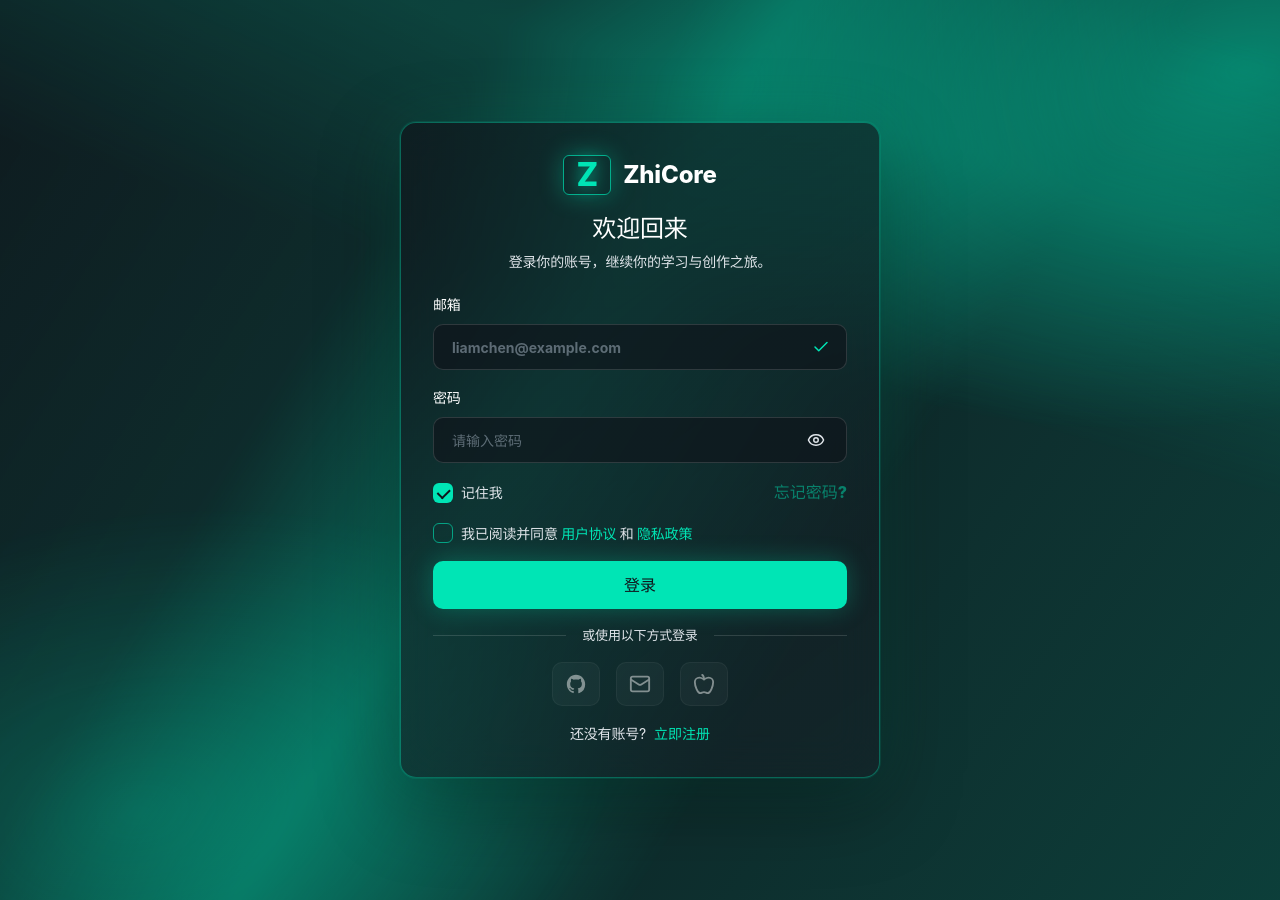
Test case: LoginRoutePage › shows a login terms validation error before submitting credentials
Type "demo@example.com" into the field with id "login-email" at (625, 347), box [450,335,800,360]
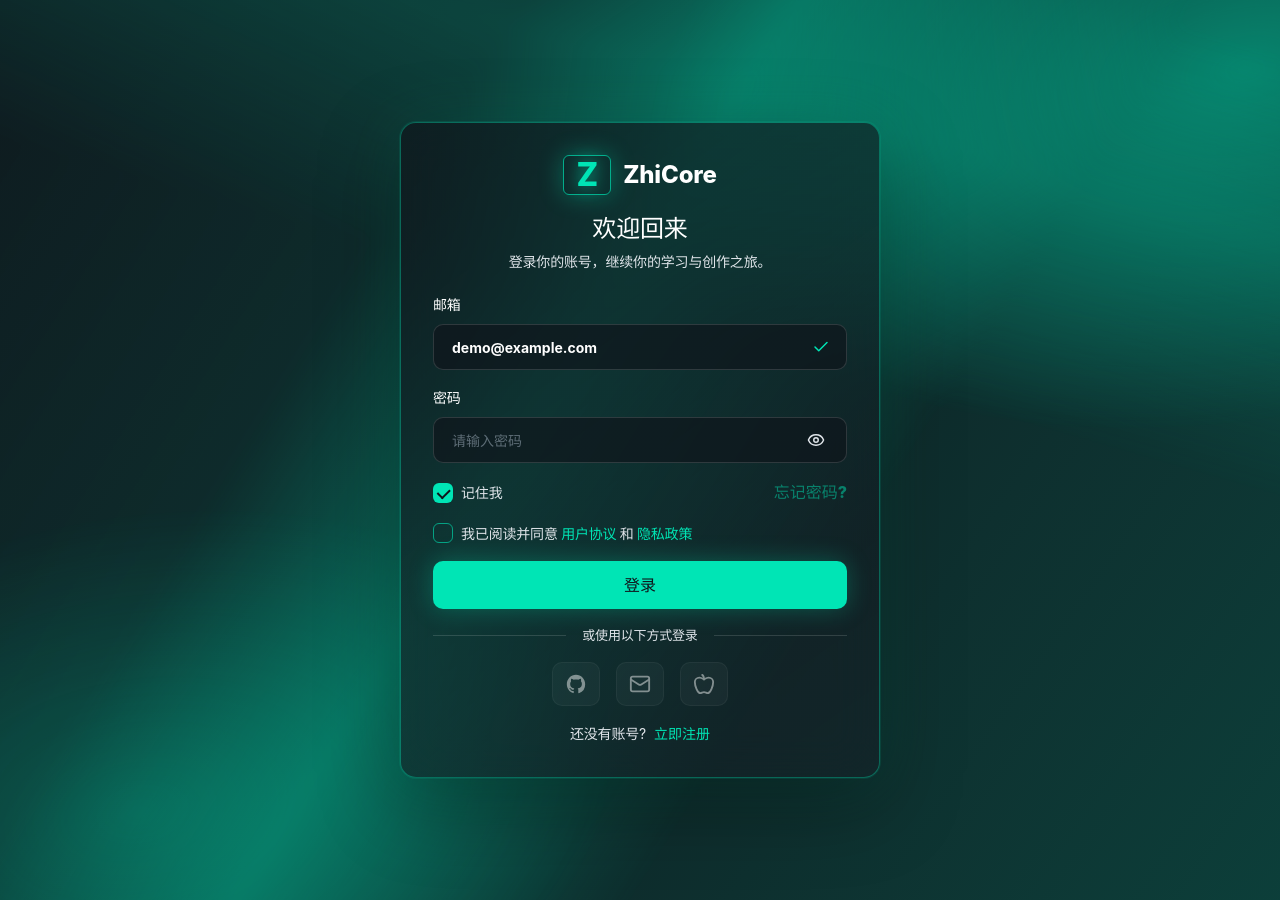
Type "Password123" into the password field with id "login-password" at (626, 440), box [450,428,802,453]
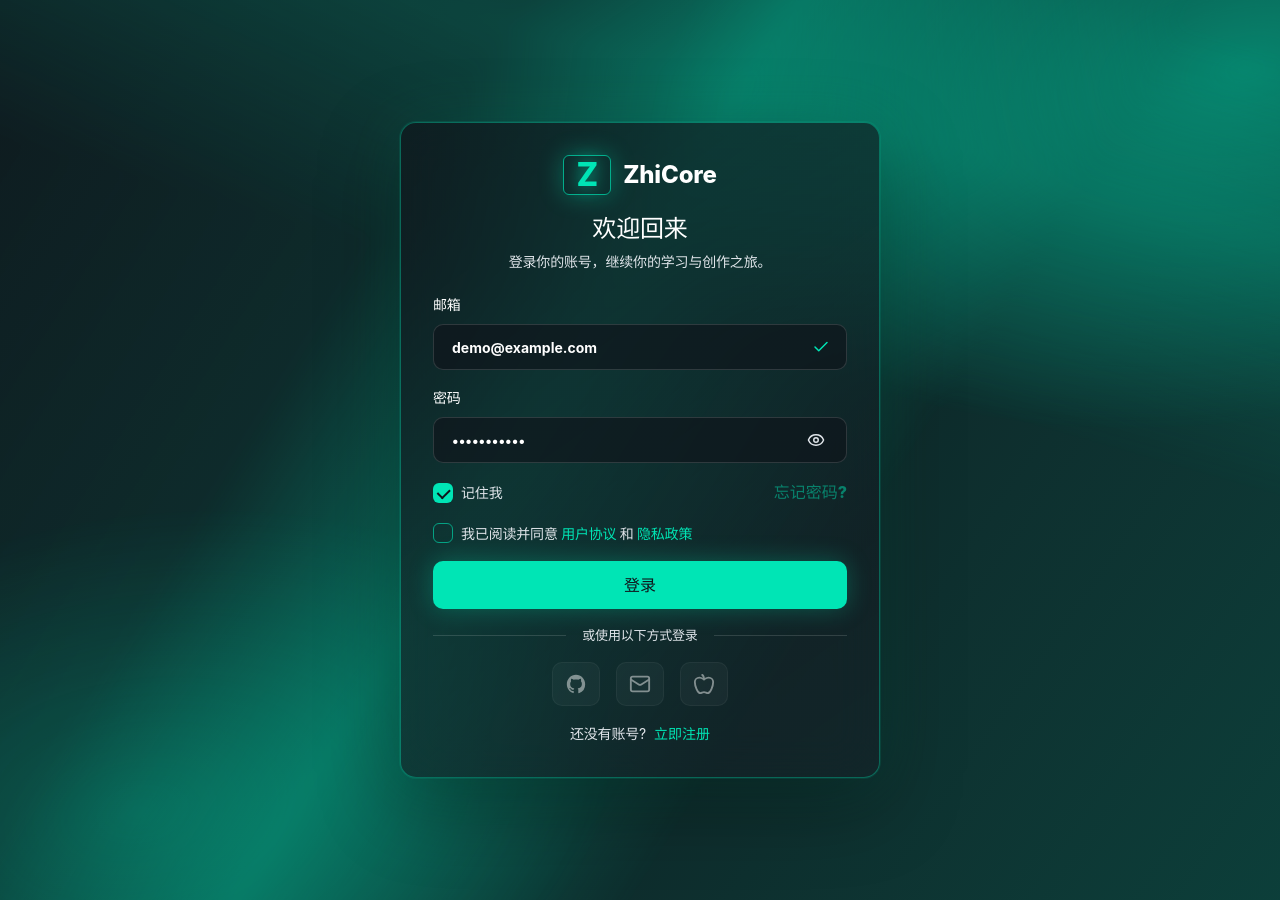
Submit the form named "登录", box [433,293,847,745]
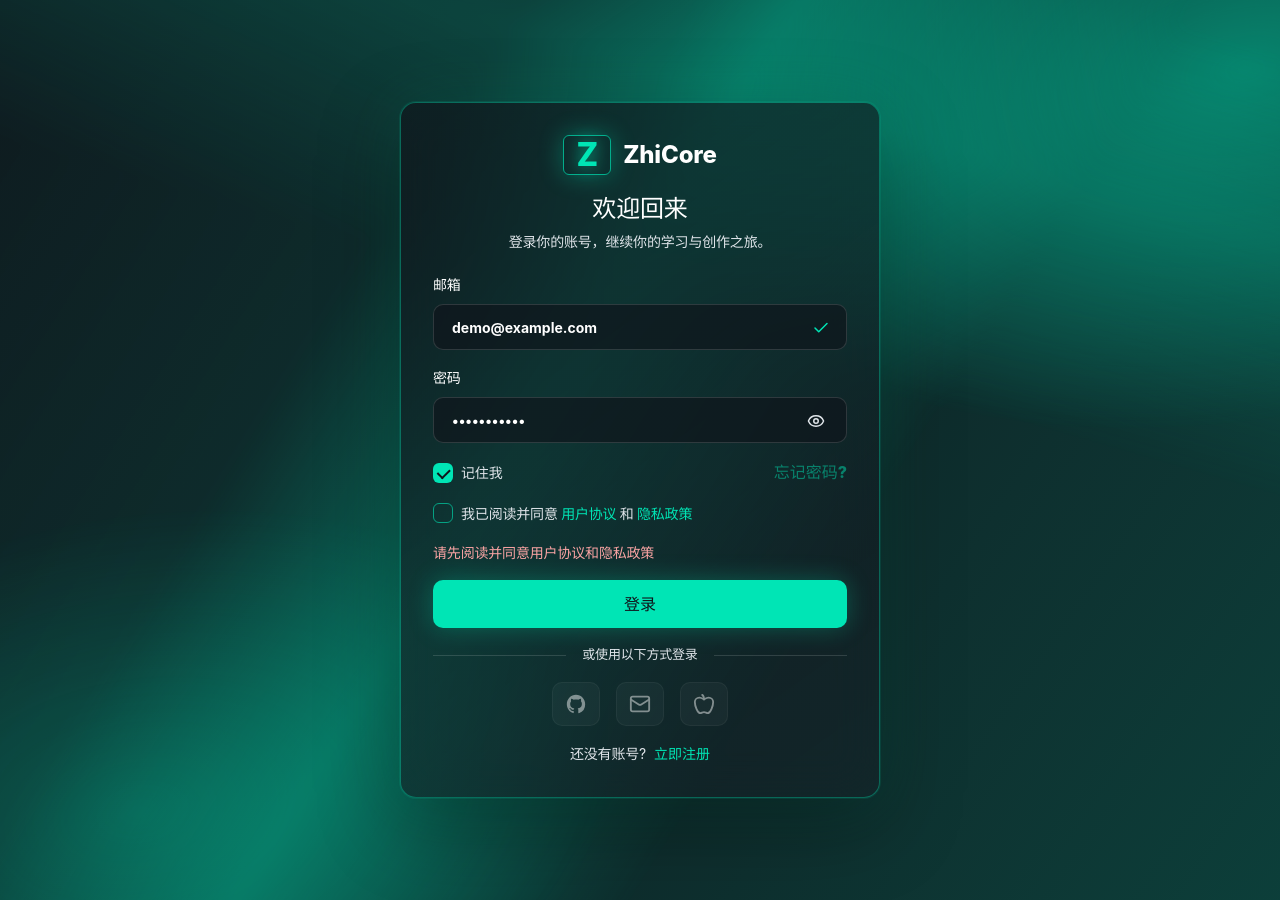
Result: the text with id "login-terms-error" reads "请先阅读并同意用户协议和隐私政策" at [433,544,654,561]
